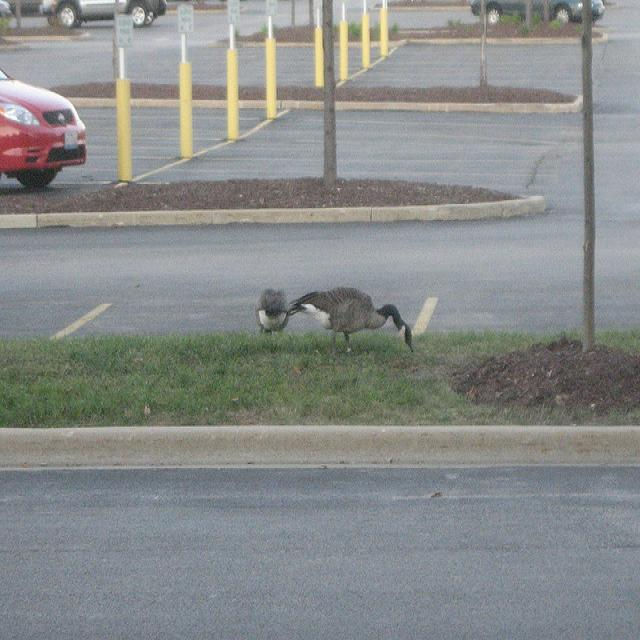Vehicle: (0, 69, 88, 194), (40, 1, 167, 30), (470, 0, 606, 25)
